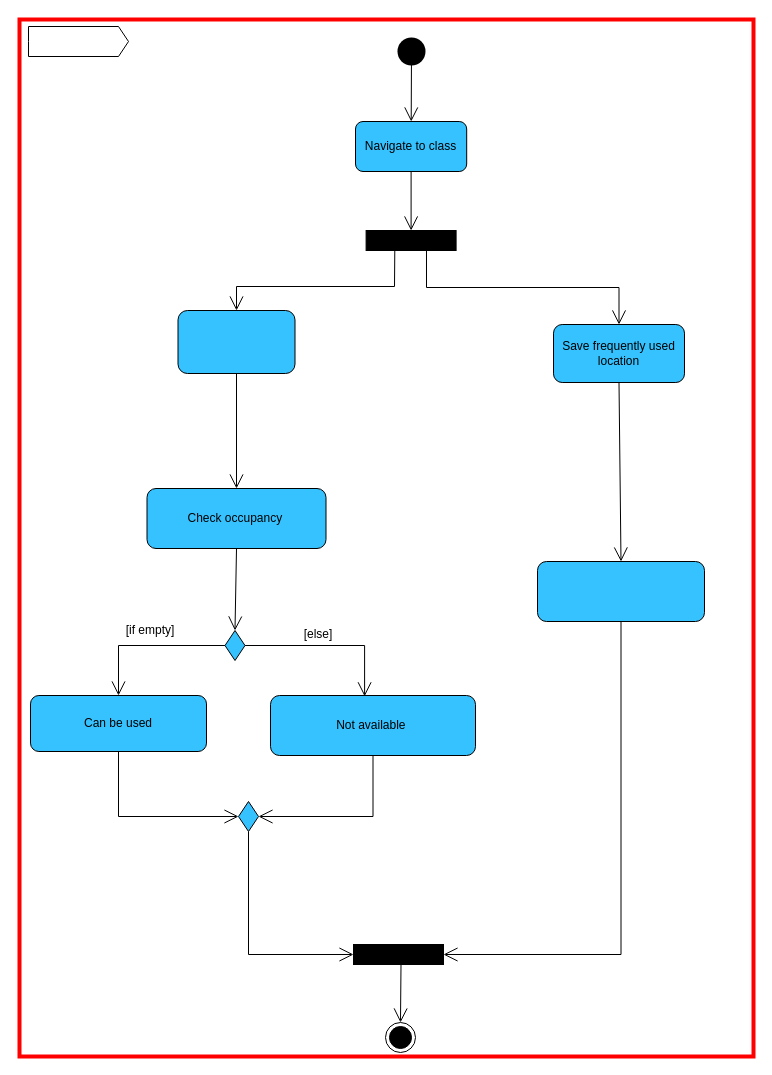
Some shapes in this 772 by 1075 pixel diagram are drawn without their labels. Each missing label, with the box of its shape:
Recieve live updates: (177, 310, 295, 374)
Save locations with red flag: (536, 560, 704, 622)
STUDENT: (28, 26, 128, 56)
